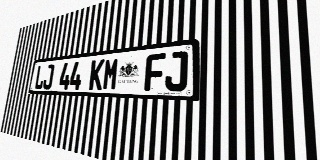4: (69, 61, 83, 90), (58, 62, 72, 90)
F: (144, 53, 166, 91)
J: (164, 51, 188, 91), (42, 64, 55, 89)
K: (88, 59, 105, 90)
L: (34, 65, 46, 89)
M: (102, 58, 120, 90)
